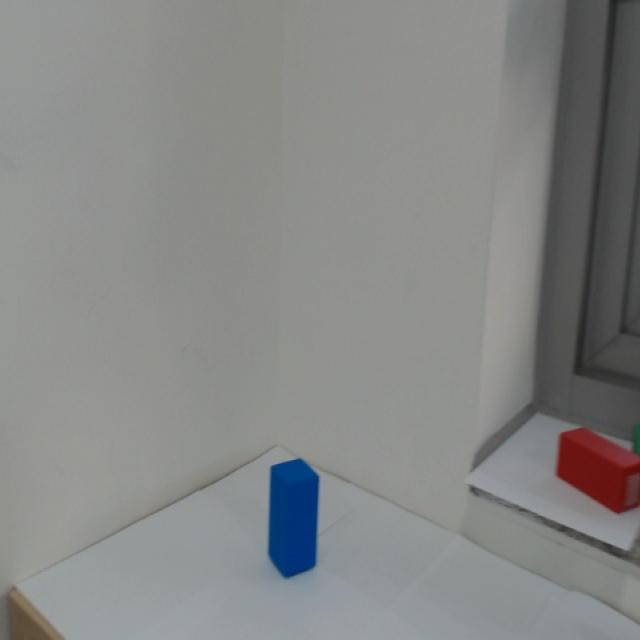cube: (258, 452, 335, 573)
